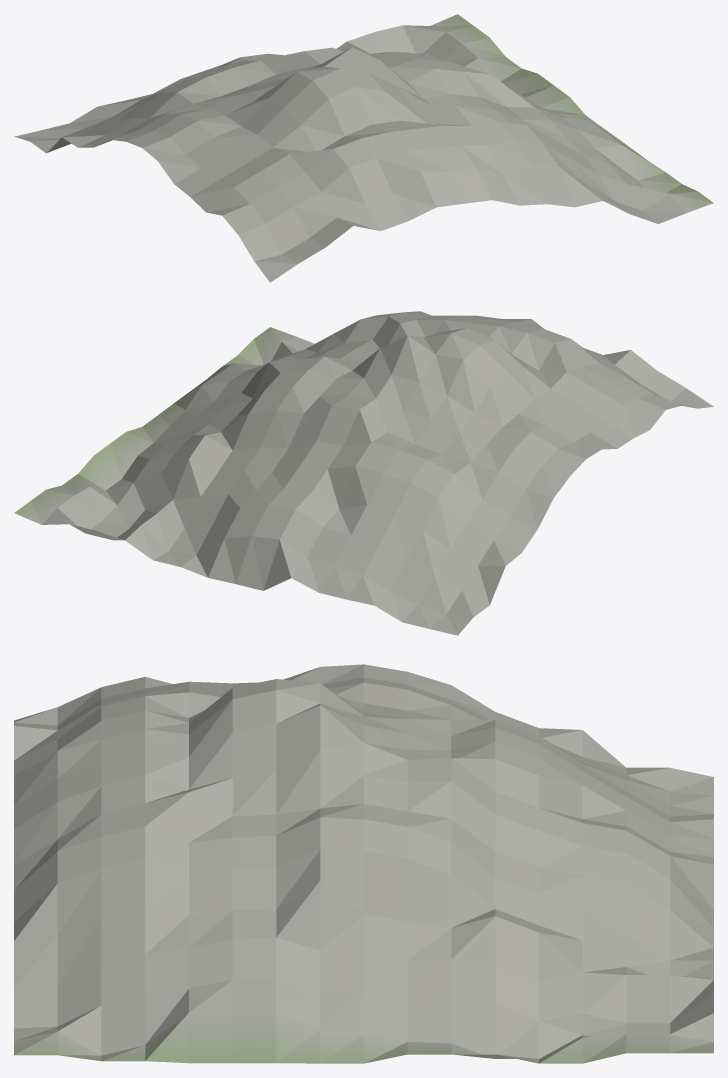
The picture shows the model from 3 angles, top to bottom: view 1: azimuth 30°, elevation 25°; view 2: azimuth 150°, elevation 25°; view 3: azimuth 270°, elevation 25°; orthographic projection. The views are drawn at different scales.
Bounding box in the file's own units: 32 × 10.46 × 32.
